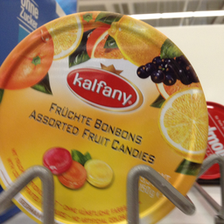candy: (2, 10, 205, 223)
